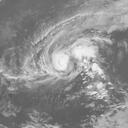cyclone: (49, 51, 70, 72)
